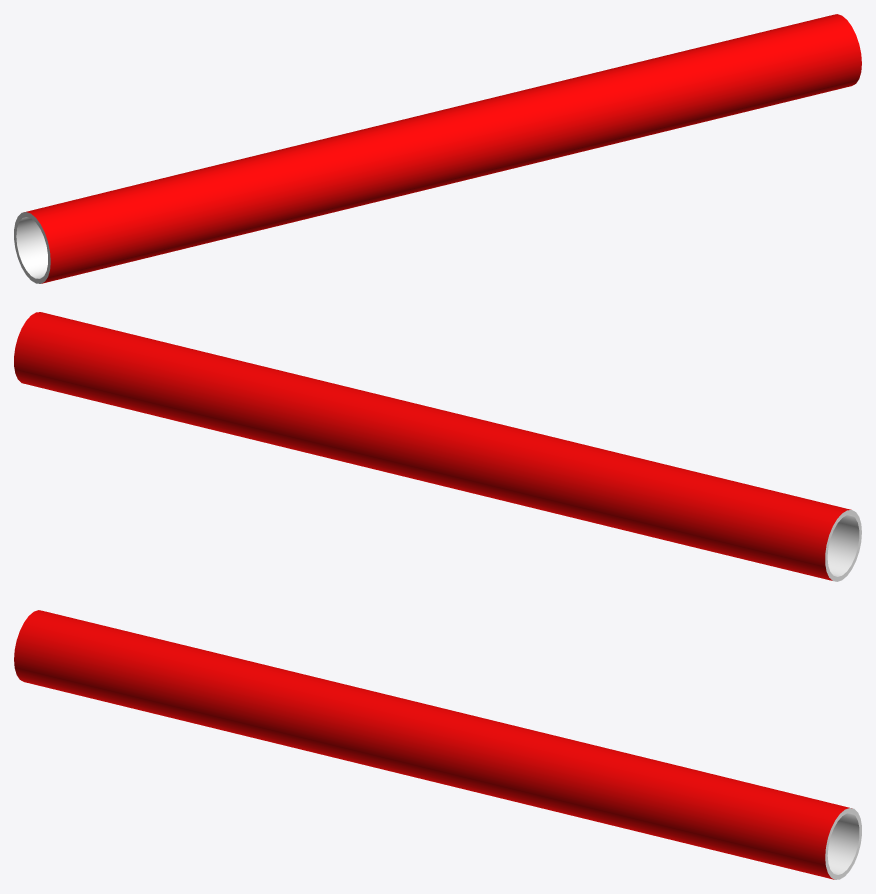
Rendered from mast_visual.obj.
3 renders of one model, top to bottom at view 1: azimuth 30°, elevation 25°; view 2: azimuth 150°, elevation 25°; view 3: azimuth 330°, elevation 25°, orthographic.
Visible parts, largest first — view 1: mast; view 2: mast; view 3: mast.
Boxes of the visible parts, left/top/right/bottom form: mast: left=14, top=14, right=861, bottom=283; mast: left=14, top=312, right=861, bottom=581; mast: left=14, top=610, right=861, bottom=879.
Size of the model in its own units: 24.71 by 1.95 by 1.95.
